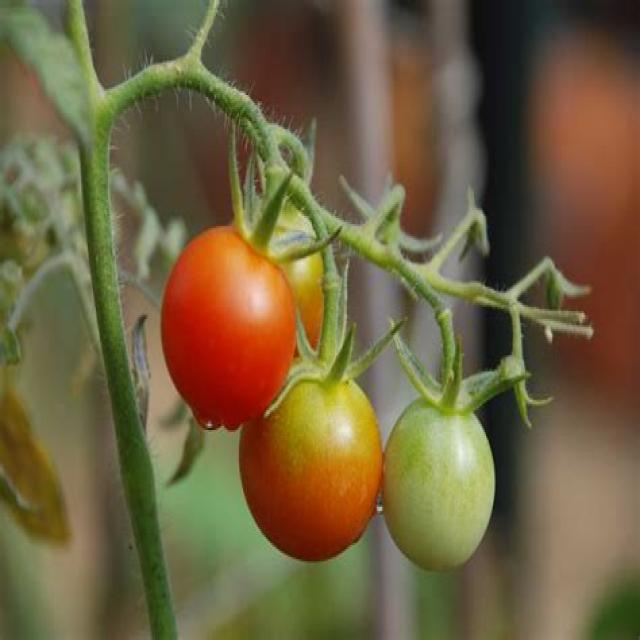Tomato: (240, 344, 378, 553), (155, 214, 291, 412), (381, 381, 502, 566)
